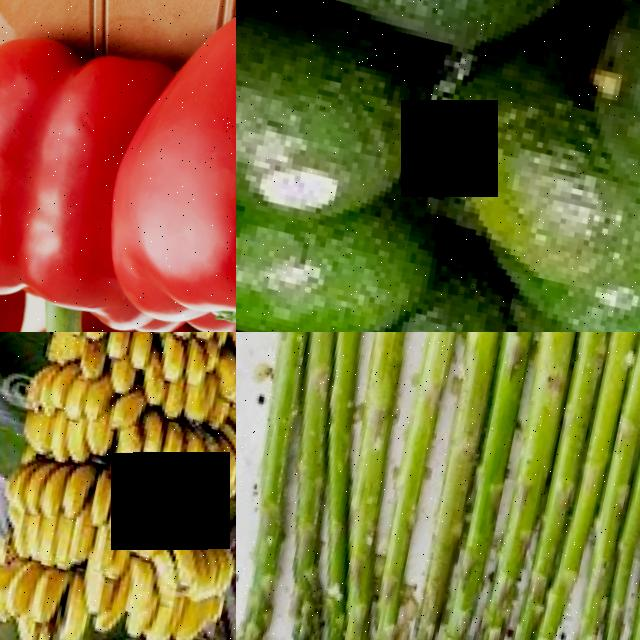asparagus: (430, 332, 590, 640), (306, 332, 459, 640), (491, 332, 640, 640), (349, 332, 488, 640), (236, 332, 366, 640), (390, 332, 515, 640), (540, 332, 640, 640)
avocado: (408, 28, 640, 327), (236, 0, 452, 260), (236, 188, 435, 332), (236, 0, 612, 76)
banana: (0, 460, 236, 640), (82, 399, 236, 521), (0, 352, 115, 475), (136, 332, 236, 428), (21, 332, 154, 384)
bell pepper: (0, 22, 157, 324), (107, 0, 236, 332)
